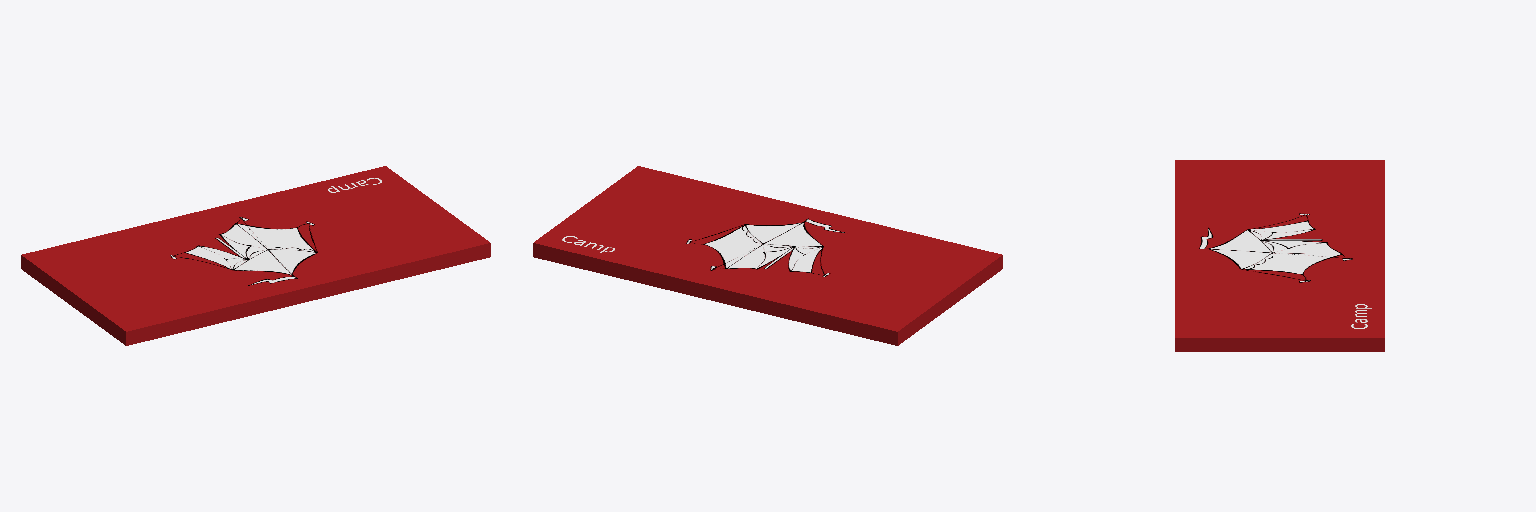
The picture shows the model from 3 angles: view 1: azimuth 30°, elevation 25°; view 2: azimuth 150°, elevation 25°; view 3: azimuth 270°, elevation 25°; orthographic projection.
Visible parts, largest first — view 1: Box001.008; view 2: Box001.008; view 3: Box001.008.
Part boxes in pixels (x1,y1,x2,y2): Box001.008: (21, 166, 490, 345); Box001.008: (533, 166, 1002, 345); Box001.008: (1175, 160, 1384, 351).
Bounding box in the file's own units: 3.15 × 0.1181 × 1.57.
1 materials, 1 textured.